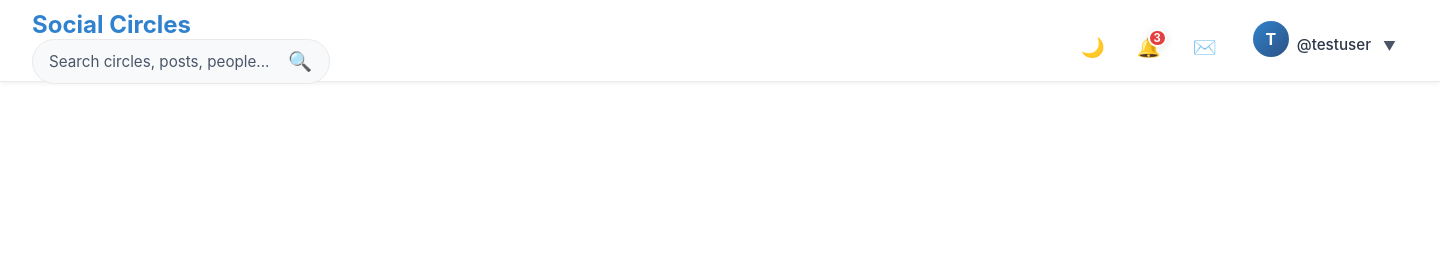
Test: Navbar Component › User Dropdown Menu › closes dropdown when clicked again
This screenshot has width=1440, height=259.
Click the text "@testuser".
click(1324, 38)  # box top-left (1253, 20), bottom-right (1396, 56)
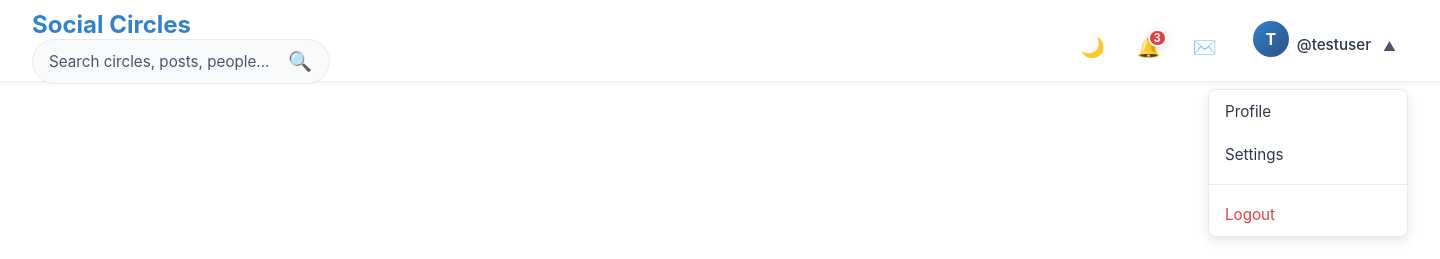
Check: the button "Profile" is shown, box top-left (1209, 90), bottom-right (1407, 132)
Click the text "@testuser".
click(1324, 38)  # box top-left (1253, 20), bottom-right (1396, 56)
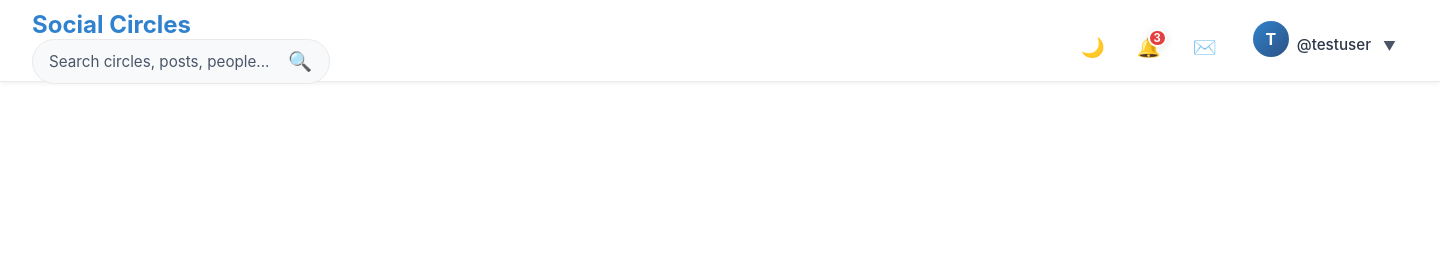
Check: the button "Profile" is gone
